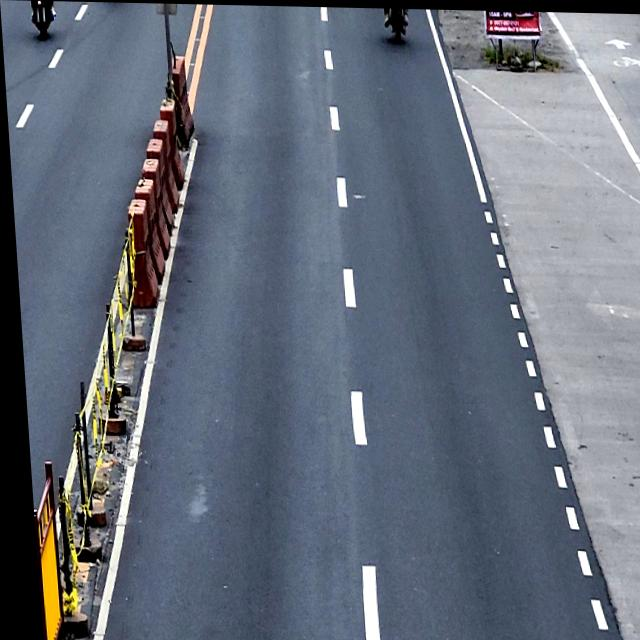Motorcycle: (29, 1, 57, 41), (382, 7, 410, 41)
